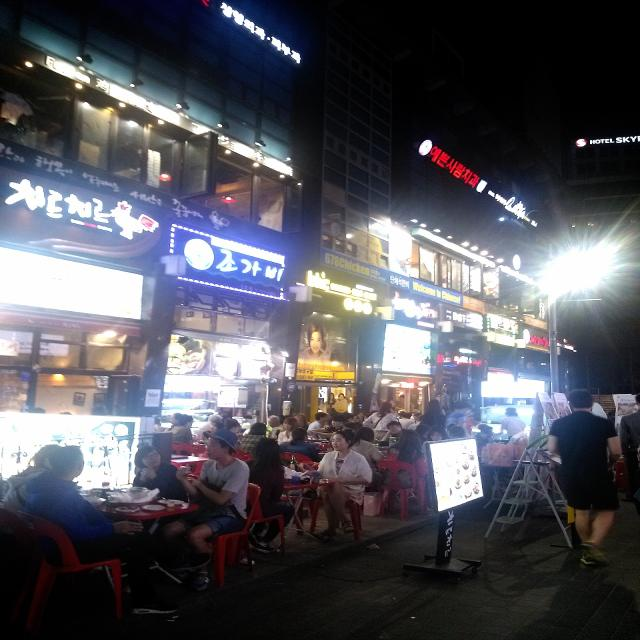body: (15, 442, 212, 616), (4, 444, 126, 578), (160, 426, 252, 592), (541, 386, 624, 568), (308, 431, 373, 543), (246, 437, 296, 555), (160, 411, 308, 443), (385, 429, 430, 517), (131, 443, 189, 503), (308, 392, 367, 431), (620, 391, 640, 498), (362, 401, 399, 442), (300, 322, 334, 360), (474, 423, 494, 477), (443, 400, 472, 436), (498, 406, 526, 438), (418, 399, 447, 427), (444, 422, 469, 440), (397, 411, 421, 429), (428, 429, 450, 441)
